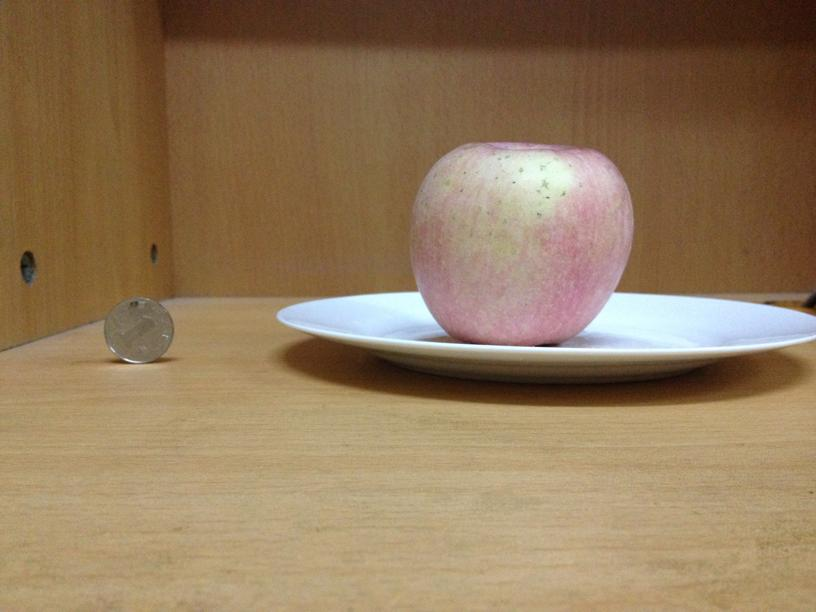apple: (406, 139, 633, 345)
coin: (105, 295, 175, 364)
